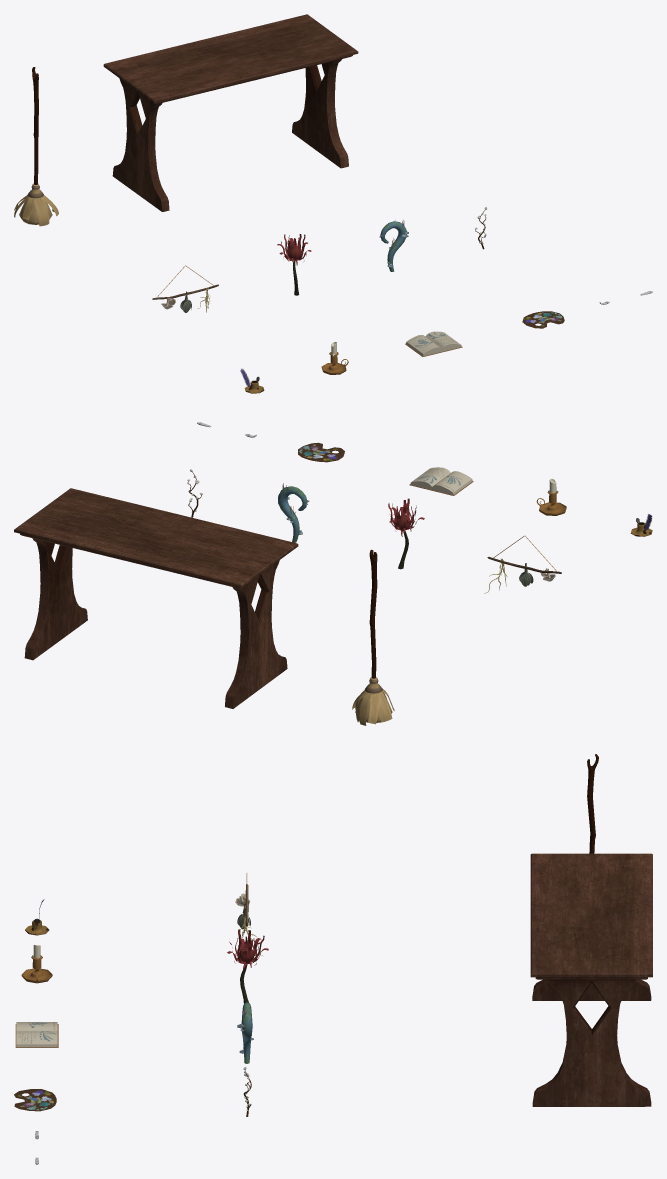
The model's file is zeniba.glb.
3 renders of one model, top to bottom at view 1: azimuth 30°, elevation 25°; view 2: azimuth 150°, elevation 25°; view 3: azimuth 270°, elevation 25°, orthographic. The views are drawn at different scales.
Parts seen in each view (by area): view 1: Table, Broom, Book, DandyLionFlower, MushroomSpore; view 2: Table, Broom, Book, DandyLionFlower, MushroomSpore, PaintPalette; view 3: Table, Book, DandyLionFlower, PaintPalette, Broom, MushroomSpore.
Boxes of the visible parts, box(x1,y1,x2,y2) form: Table: box(103, 14, 358, 211); Broom: box(14, 67, 58, 226); Book: box(405, 331, 462, 356); DandyLionFlower: box(277, 234, 311, 295); MushroomSpore: box(379, 220, 408, 271); Table: box(14, 488, 298, 708); Broom: box(352, 549, 394, 725); Book: box(409, 467, 473, 495); DandyLionFlower: box(388, 498, 424, 569); MushroomSpore: box(278, 483, 309, 542); PaintPalette: box(298, 442, 344, 462); Table: box(530, 853, 652, 1106); Book: box(15, 1022, 58, 1047); DandyLionFlower: box(227, 929, 268, 1003); PaintPalette: box(14, 1089, 56, 1111); Broom: box(587, 754, 598, 853); MushroomSpore: box(237, 1002, 253, 1063).
Size of the model in its own units: 2.83 by 0.9985 by 3.14.
3 materials, 3 textured.
